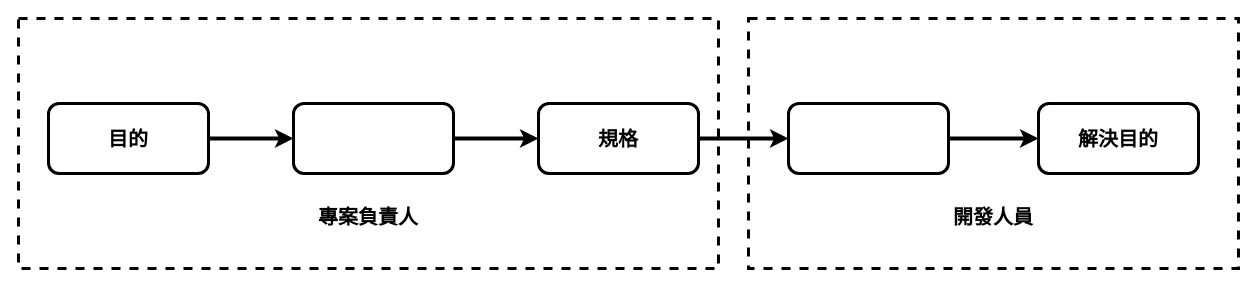
Image size: 1257x287. Some labels were removed from this diagram. The box of each missing label's shape, as (x1, y1, x2, y2) in pixels:
實作: (786, 102, 950, 174)
需求: (292, 102, 454, 174)
